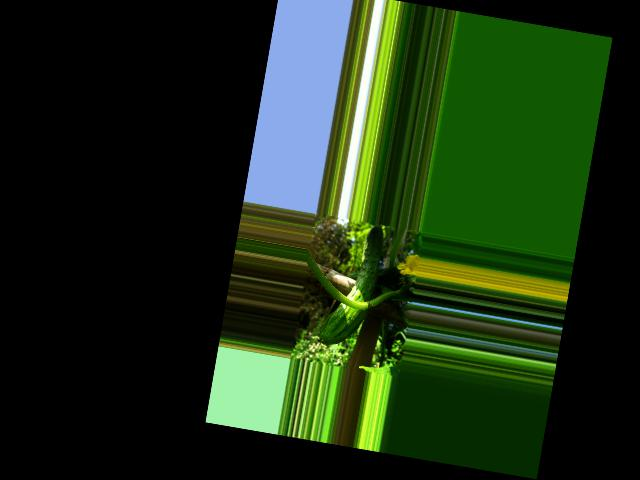cucumber: (318, 217, 386, 351)
